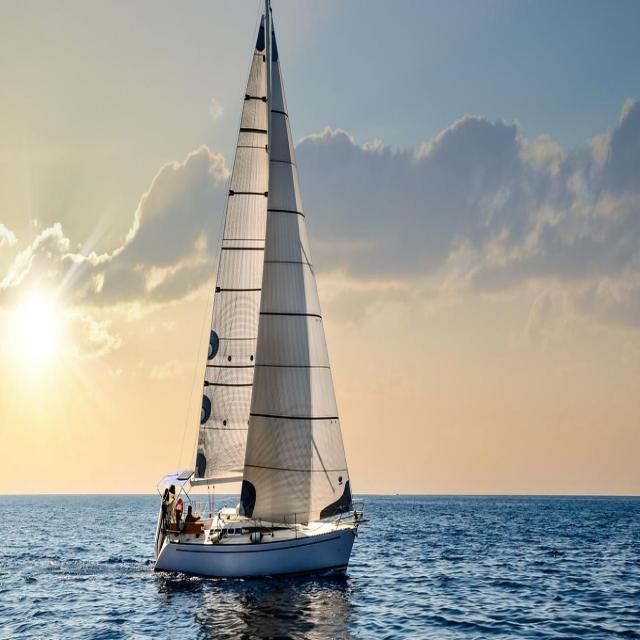boat: (151, 4, 372, 601)
